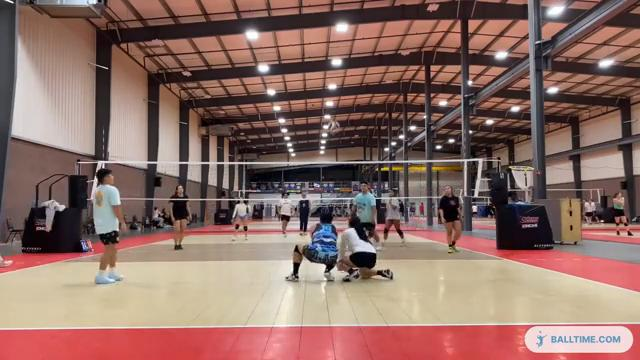Player: (93, 168, 126, 283), (285, 212, 337, 281), (338, 217, 393, 281), (352, 182, 381, 249), (438, 185, 461, 252), (169, 185, 190, 249), (383, 190, 404, 243), (232, 200, 250, 240), (277, 192, 292, 236), (298, 193, 310, 236), (0, 256, 12, 267)
Receive: (278, 207, 336, 282)
ball: (326, 119, 341, 135)
